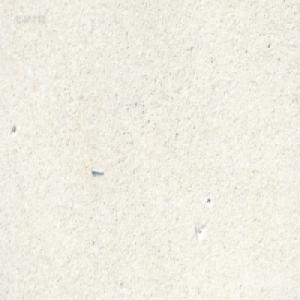Nail: (90, 164, 103, 174)
